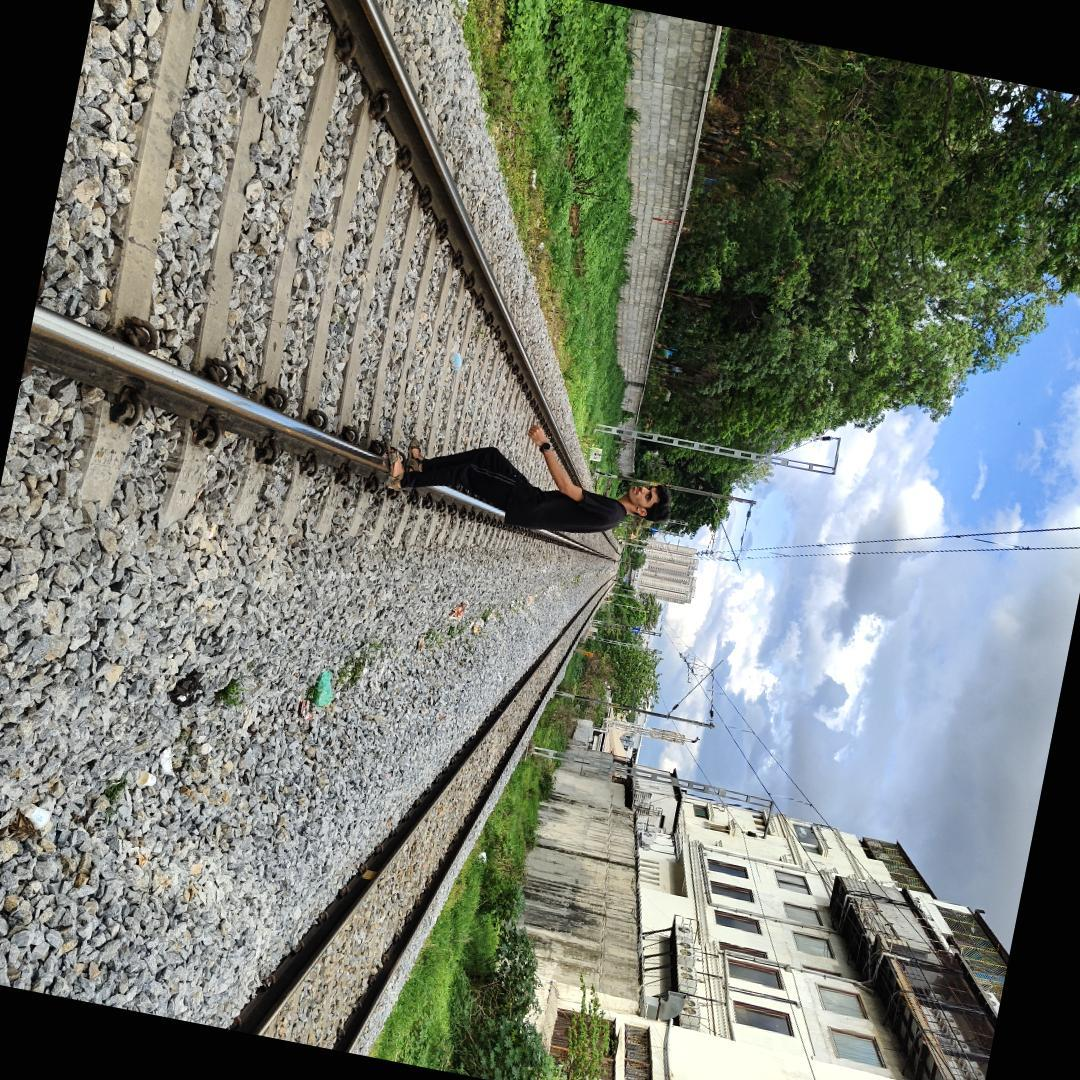standing: (363, 417, 673, 553)
